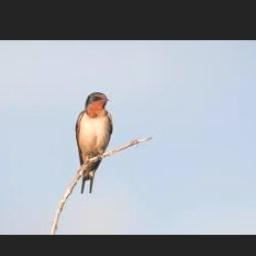Swallow: (76, 92, 112, 193)
